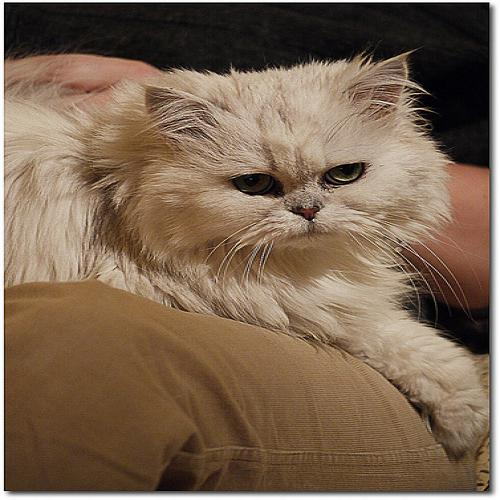persian: (121, 52, 455, 270)
